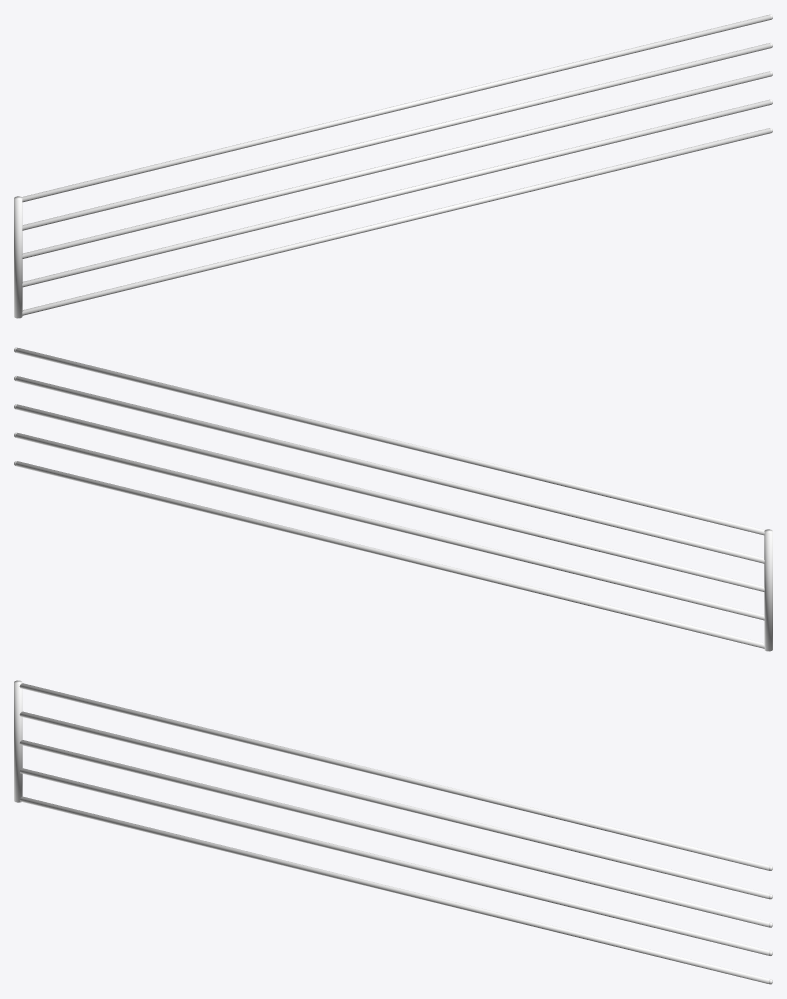
File: music-staff.glb
3 renders of one model, top to bottom at view 1: azimuth 30°, elevation 25°; view 2: azimuth 150°, elevation 25°; view 3: azimuth 330°, elevation 25°, orthographic.
Visible parts, largest first — view 1: music-staff; view 2: music-staff; view 3: music-staff.
Part boxes in pixels (x1,y1,x2,y2): music-staff: (14,14,772,318); music-staff: (14,347,772,651); music-staff: (14,680,772,984).
Bounding box in the file's own units: 14 × 2.09 × 0.14.
1 material, 1 textured.
